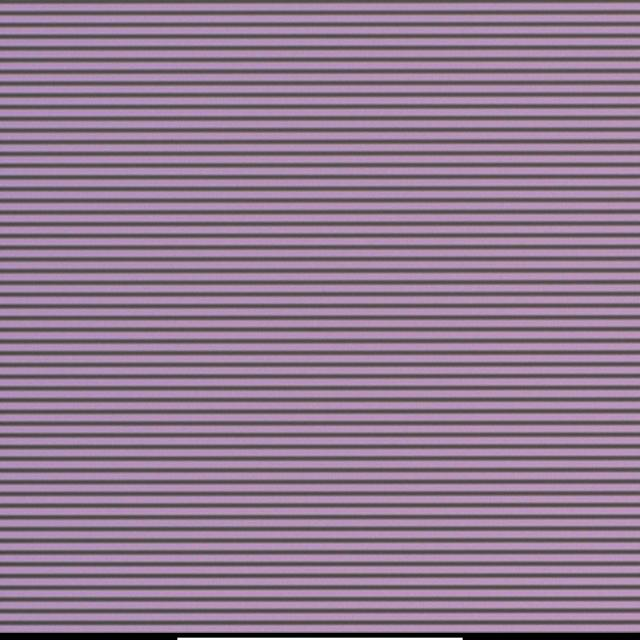03_intrusion: (327, 221, 335, 228)
